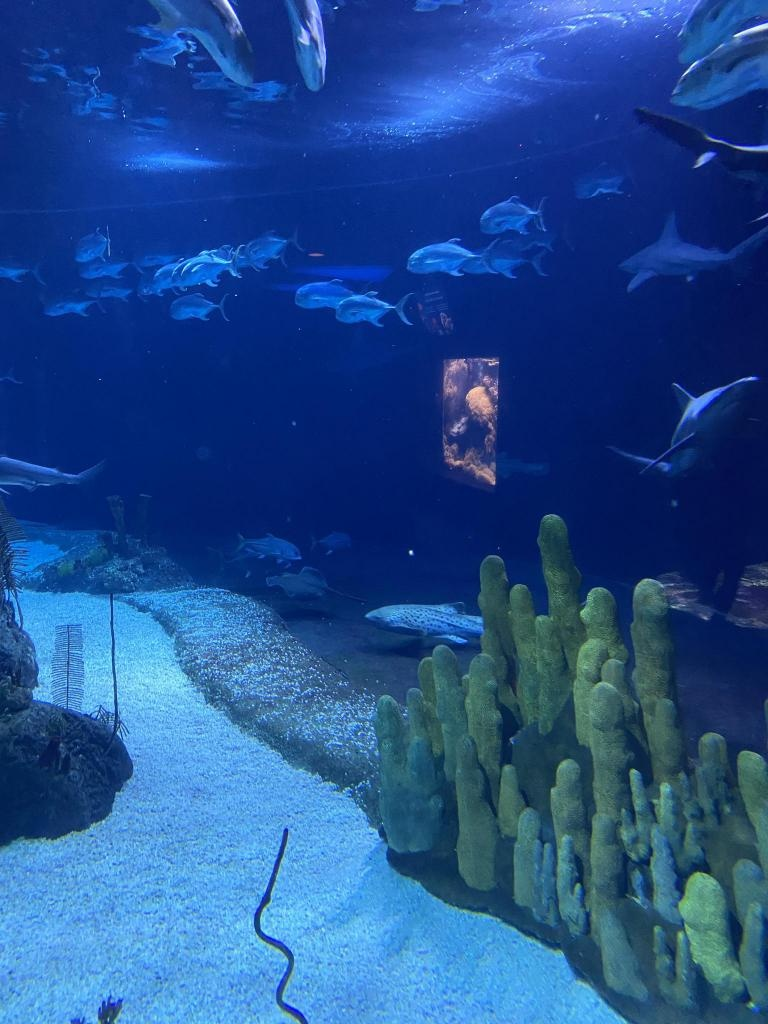fish: (149, 0, 262, 83), (669, 24, 768, 117), (645, 0, 768, 57), (364, 601, 488, 647), (278, 0, 330, 99), (566, 154, 630, 206), (334, 294, 404, 336), (473, 199, 546, 237), (292, 276, 365, 310), (408, 244, 479, 276), (489, 244, 551, 278), (229, 537, 299, 565), (69, 226, 125, 260), (249, 225, 294, 265), (172, 255, 220, 289), (43, 288, 92, 320), (181, 252, 229, 284), (168, 296, 219, 324), (310, 532, 358, 558), (148, 264, 192, 292), (1, 260, 47, 286), (77, 259, 127, 281), (92, 281, 134, 305)
shark: (638, 376, 754, 500), (614, 226, 740, 294), (654, 117, 768, 187), (1, 456, 95, 502)
stingray: (264, 570, 326, 602)
